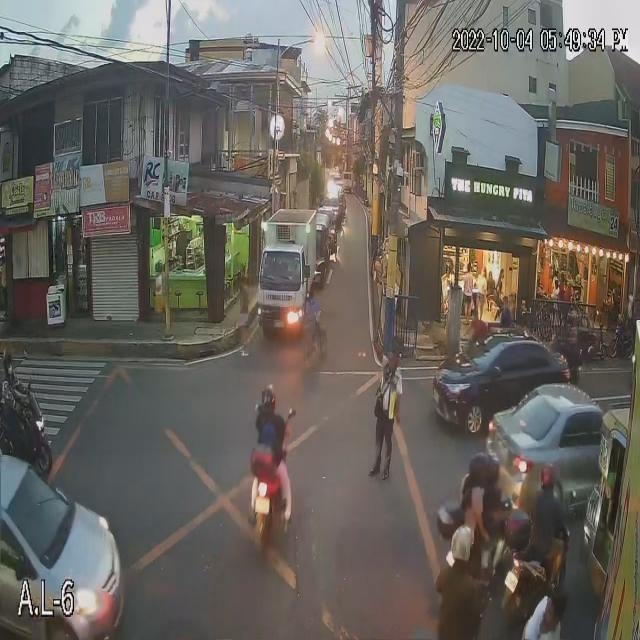helmet: (450, 525, 480, 563), (465, 453, 492, 490), (258, 379, 284, 415), (480, 453, 506, 488), (540, 459, 563, 485), (0, 347, 16, 379)
motorcycle: (239, 440, 300, 545), (513, 530, 575, 619), (439, 512, 521, 574), (0, 400, 54, 473)
rider: (430, 530, 486, 640), (449, 451, 495, 541), (528, 456, 569, 556), (250, 378, 284, 472), (0, 346, 25, 434), (478, 452, 506, 527)
